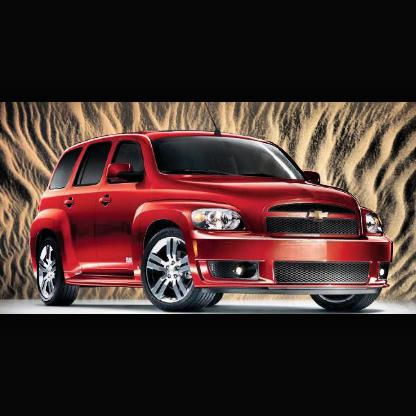Chevrolet HHR SS 2010: (29, 129, 395, 313)
